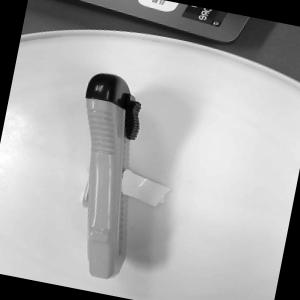estilete: (49, 68, 159, 282)
